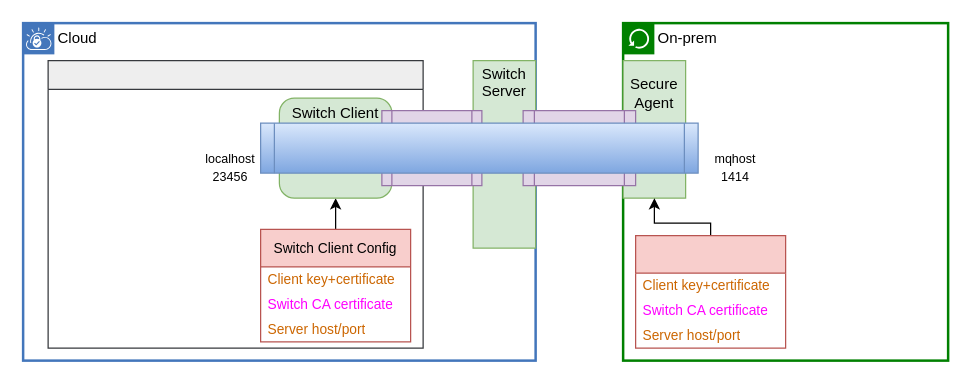
The diagram is 970 pixels wide and 383 high, and some of its shapes have lost their labels. Each missing label, with the box of its shape:
ACE container: (47, 59, 423, 348)
Secure Agent Config: (634, 234, 786, 348)
Tunnel: (259, 122, 698, 173)
